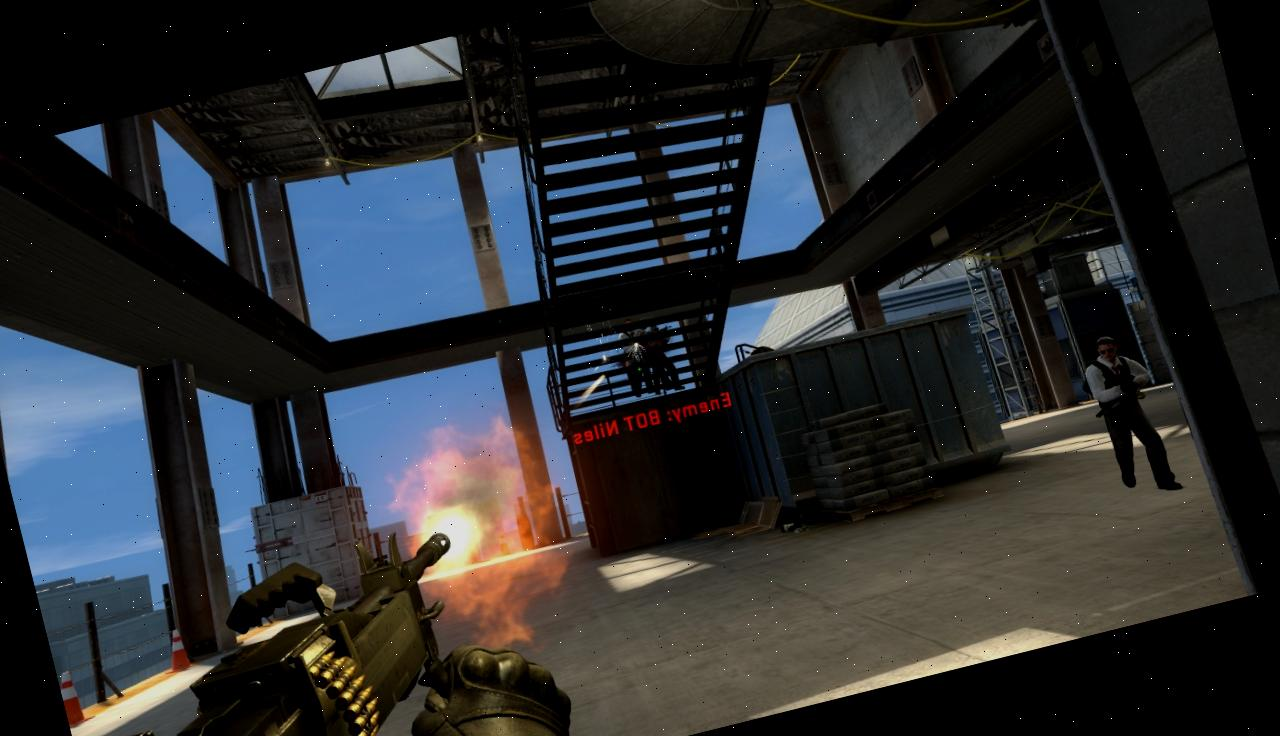rifle: (37, 494, 516, 736)
tt: (1080, 327, 1170, 487), (612, 314, 655, 378)
tthead: (1095, 334, 1121, 362)
